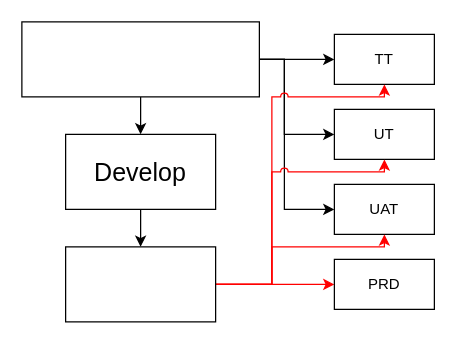
The diagram is 456 pixels wide and 344 high, and some of its shapes have lost their labels. The shapes that lost their labels are listed below. From the top down, each one's centre as x and y in pixels, then its label:
At point 140,59: "開發分支 sprint{number}/{電文單號}_{描述}".
At point 140,284: "Release".
